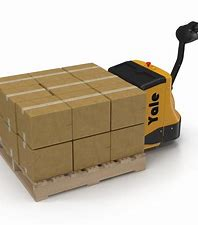Pallet Jack: (1, 20, 198, 205)
